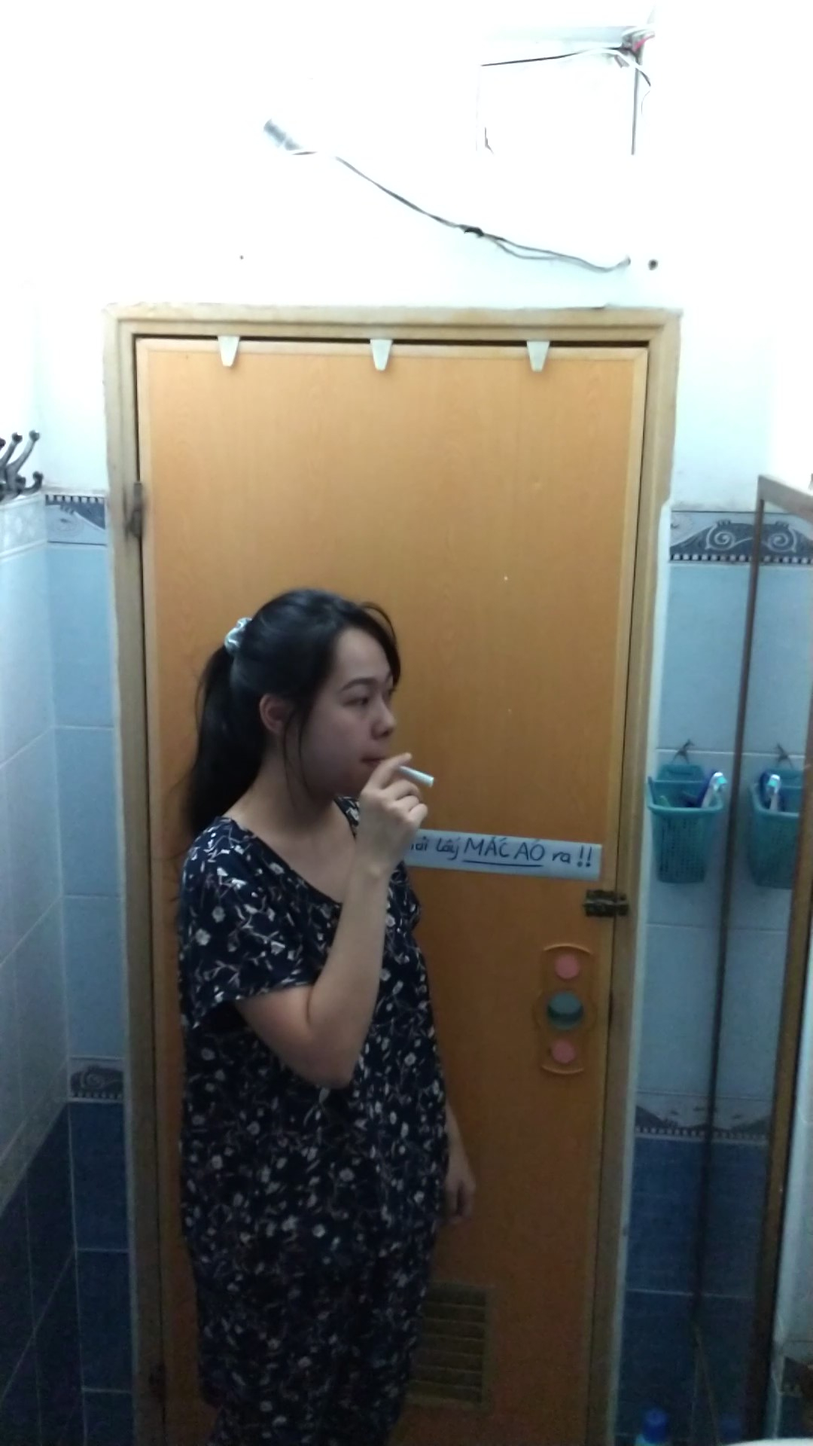cigarette: (397, 763, 439, 794)
person: (172, 590, 459, 1441)
